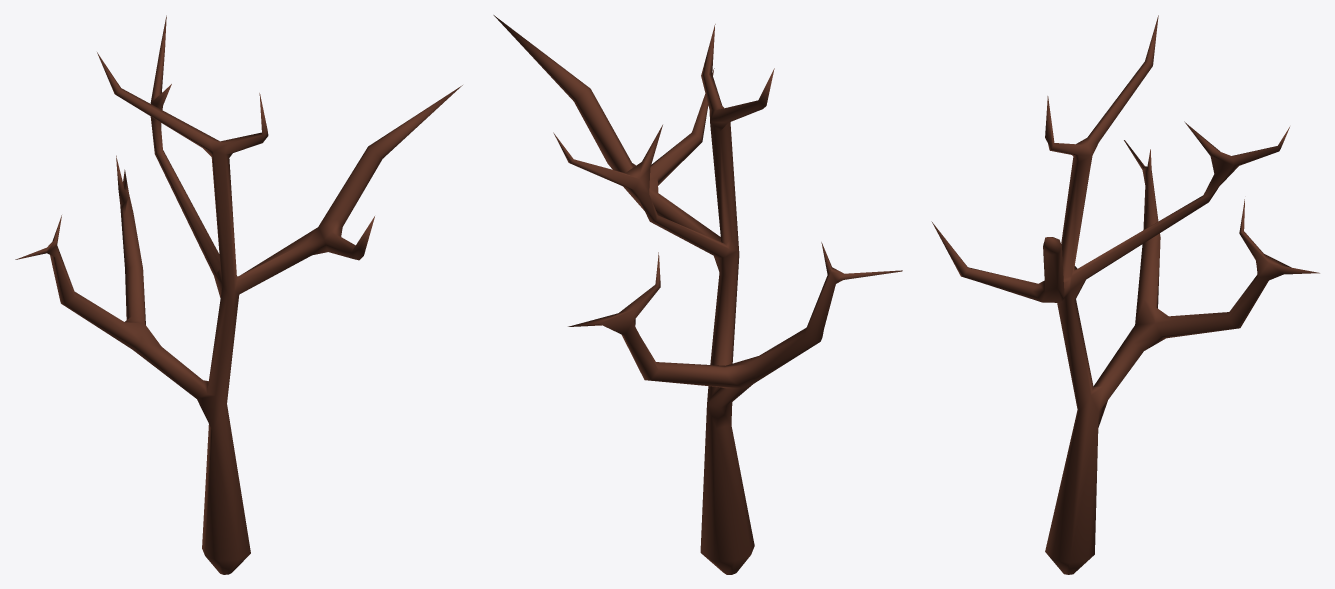
Rendered from arbol_sin_hojasLP.fbx.
The picture shows the model from 3 angles, left to right: view 1: azimuth 30°, elevation 25°; view 2: azimuth 150°, elevation 25°; view 3: azimuth 270°, elevation 25°; orthographic projection. The views are drawn at different scales.
Parts seen in each view (by area): view 1: Tronco; view 2: Tronco; view 3: Tronco.
Part boxes in pixels (<box>): Tronco: <box>15,15,462,574</box>; Tronco: <box>493,15,902,574</box>; Tronco: <box>931,15,1319,574</box>.
Size of the model in its own units: 789 by 938 by 641.
